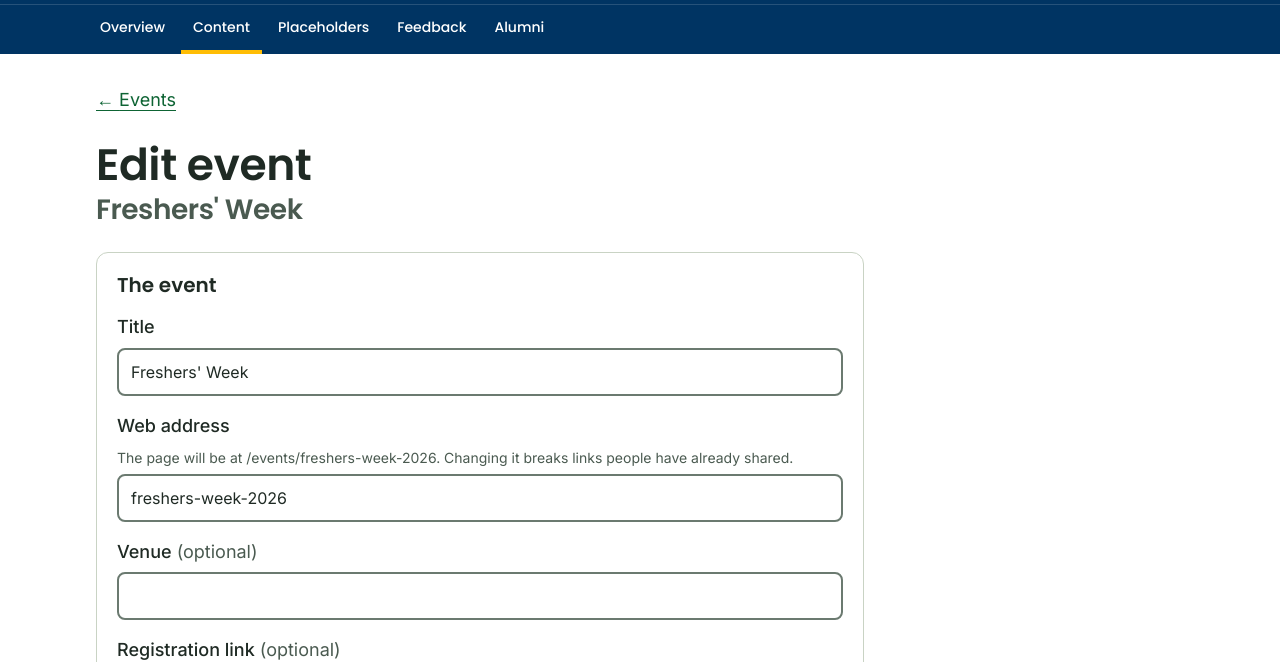
Test: editing an event › opens with the saved values, saves changes and clears the placeholder flag
Type "Faculty of Pharmacy" into the field labelled "Venue (optional)" at [480, 596], box [117,572,843,620]
(page scrolled)
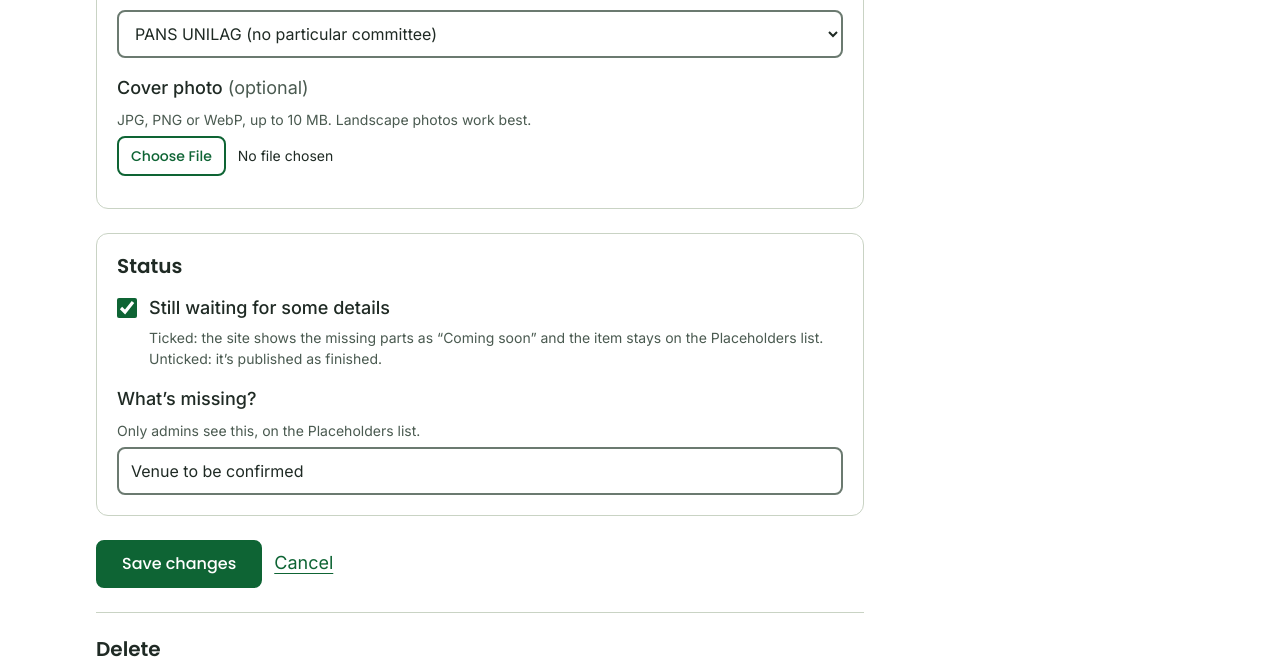
Click the checkbox labelled "Still waiting for some details" at [127, 308], box [117,298,137,318]
(page scrolled)
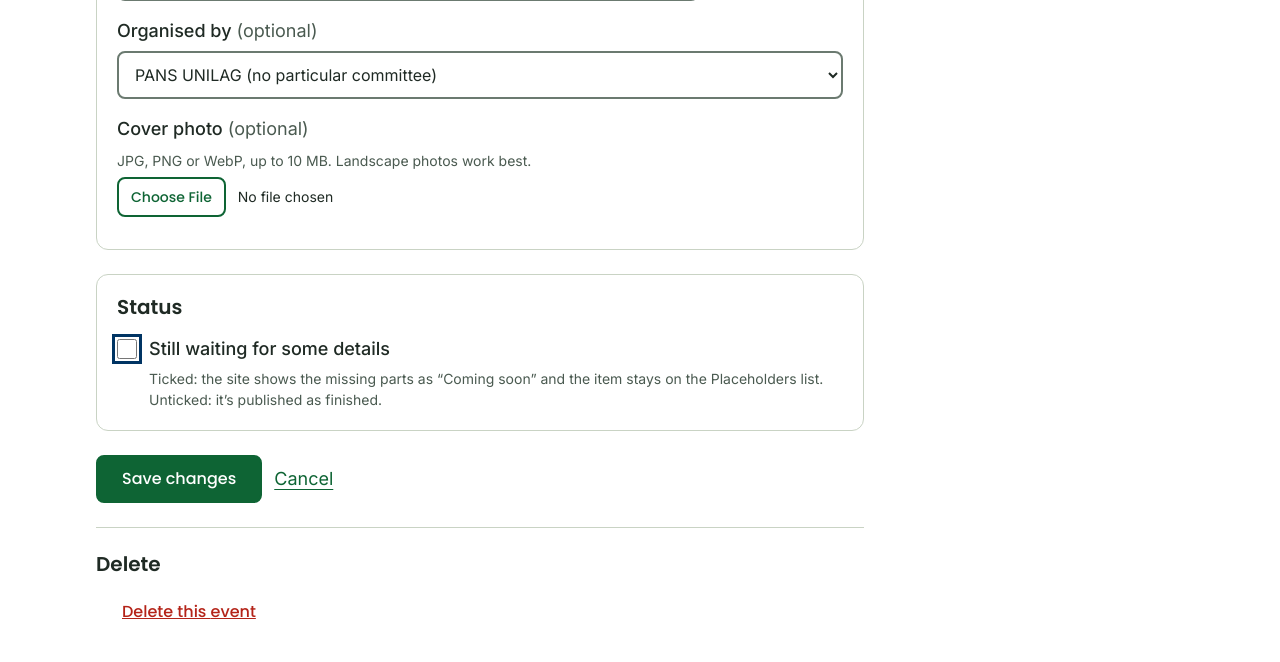
Click the button "Save changes" at [179, 479], box [96,455,262,503]
(page scrolled)
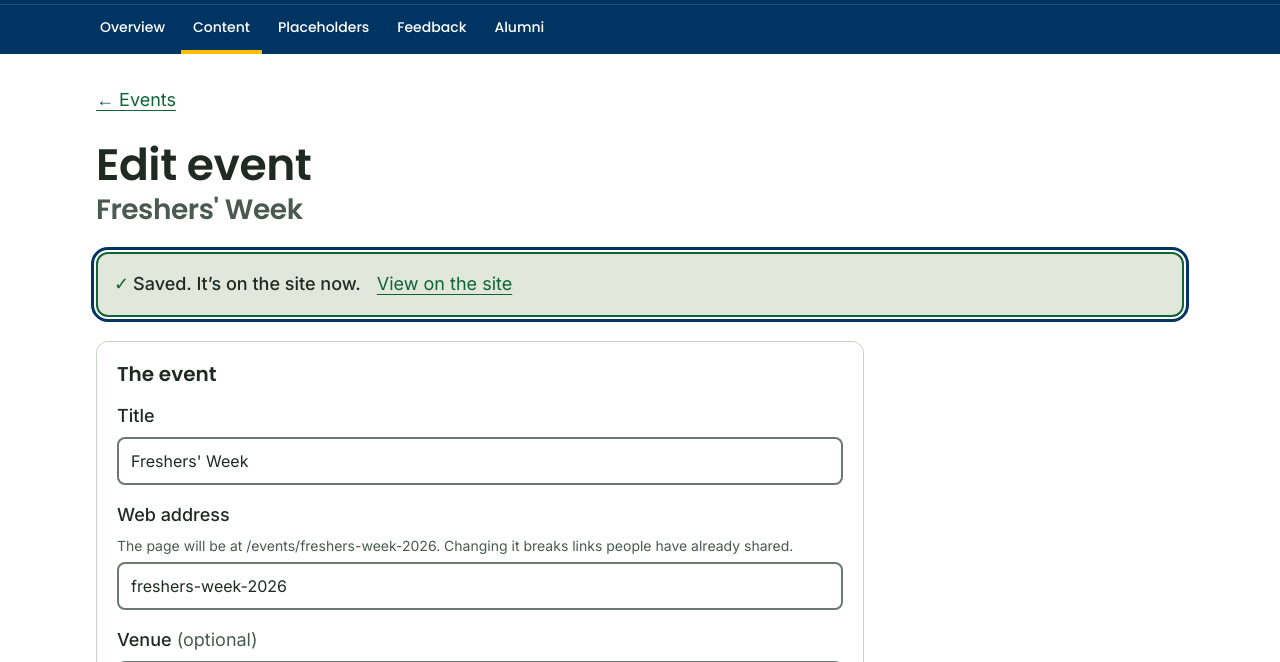
Result: the text "✓Saved. It’s on the site now." is shown at [114,270,361,299]
